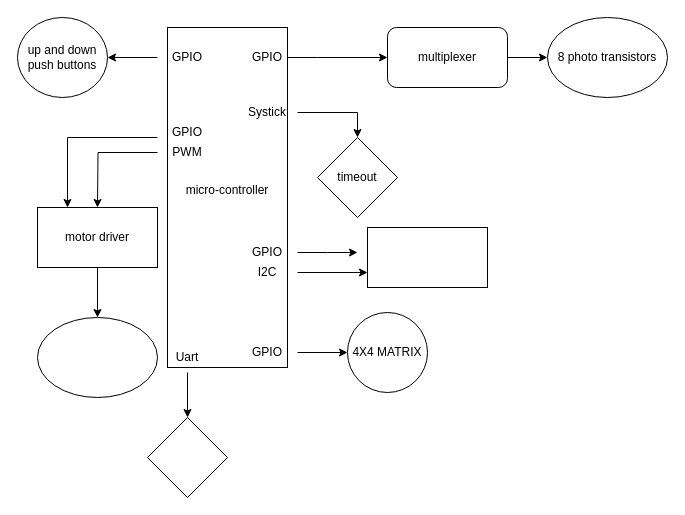
This 685x515 diagram has some shape labels left out. Each missing label, with the centre of its shape:
"admin menue" goes at (187,457).
"LCD" goes at (427,257).
"motor" goes at (97,357).
